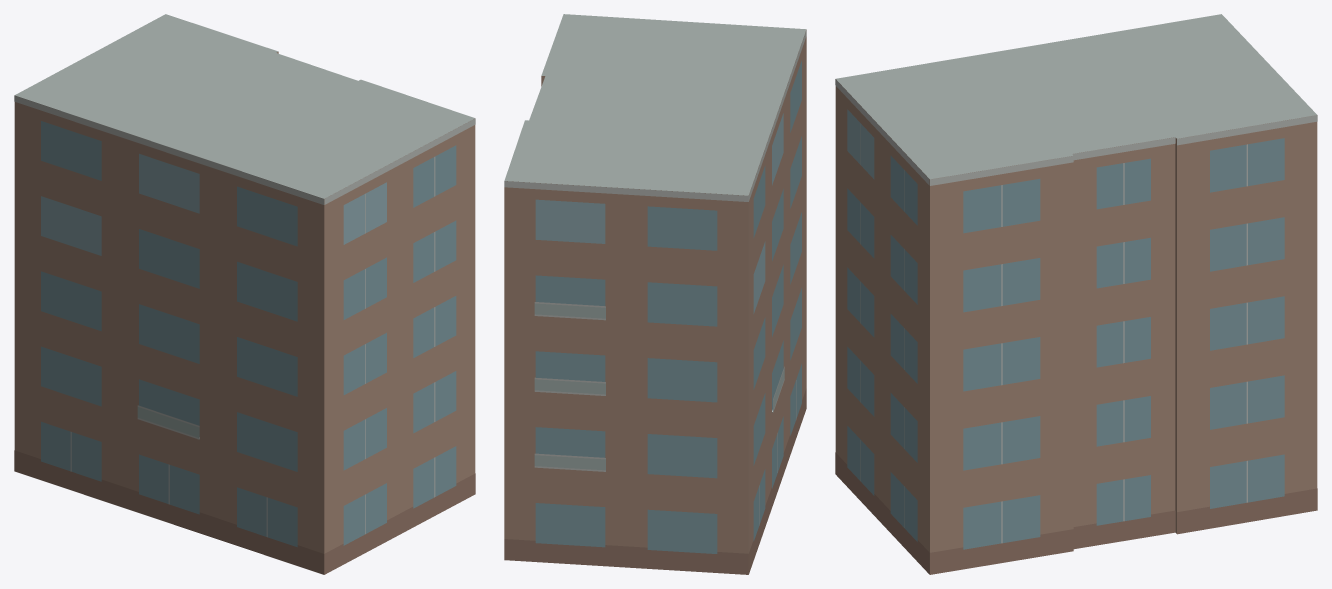
File: survey-upis-32947151.glb
3 renders of one model, left to right at view 1: azimuth 30°, elevation 25°; view 2: azimuth 150°, elevation 25°; view 3: azimuth 270°, elevation 25°, orthographic. The views are drawn at different scales.
Visible parts, largest first — view 1: survey-upis-32947151.tmp; view 2: survey-upis-32947151.tmp; view 3: survey-upis-32947151.tmp.
Boxes of the visible parts, x1=… form: survey-upis-32947151.tmp: x1=14, y1=14, x2=475, y2=574; survey-upis-32947151.tmp: x1=504, y1=14, x2=806, y2=574; survey-upis-32947151.tmp: x1=835, y1=14, x2=1317, y2=574.
Size of the model in its own units: 13.02 by 14.5 by 16.02.
